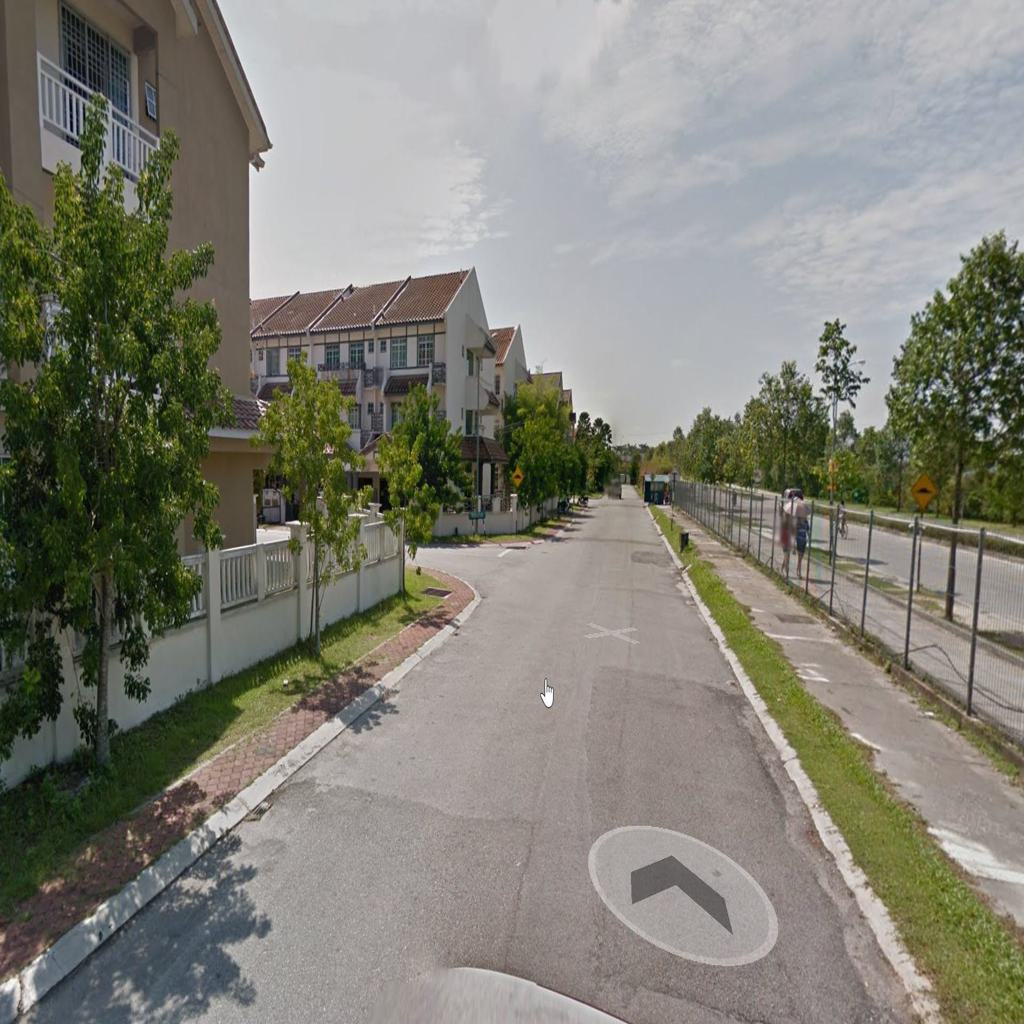Junction: (424, 519, 578, 620)
